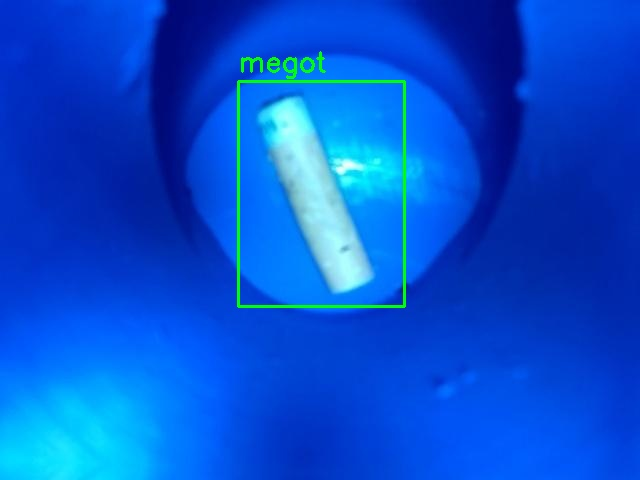megot: (238, 81, 404, 306)
